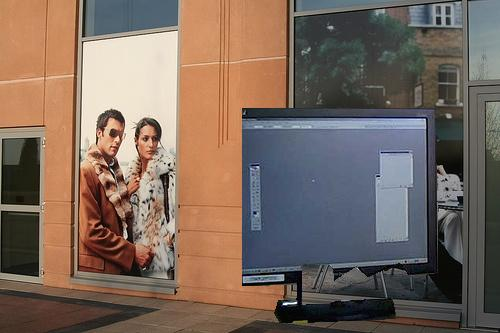tampered: (243, 109, 438, 323)
